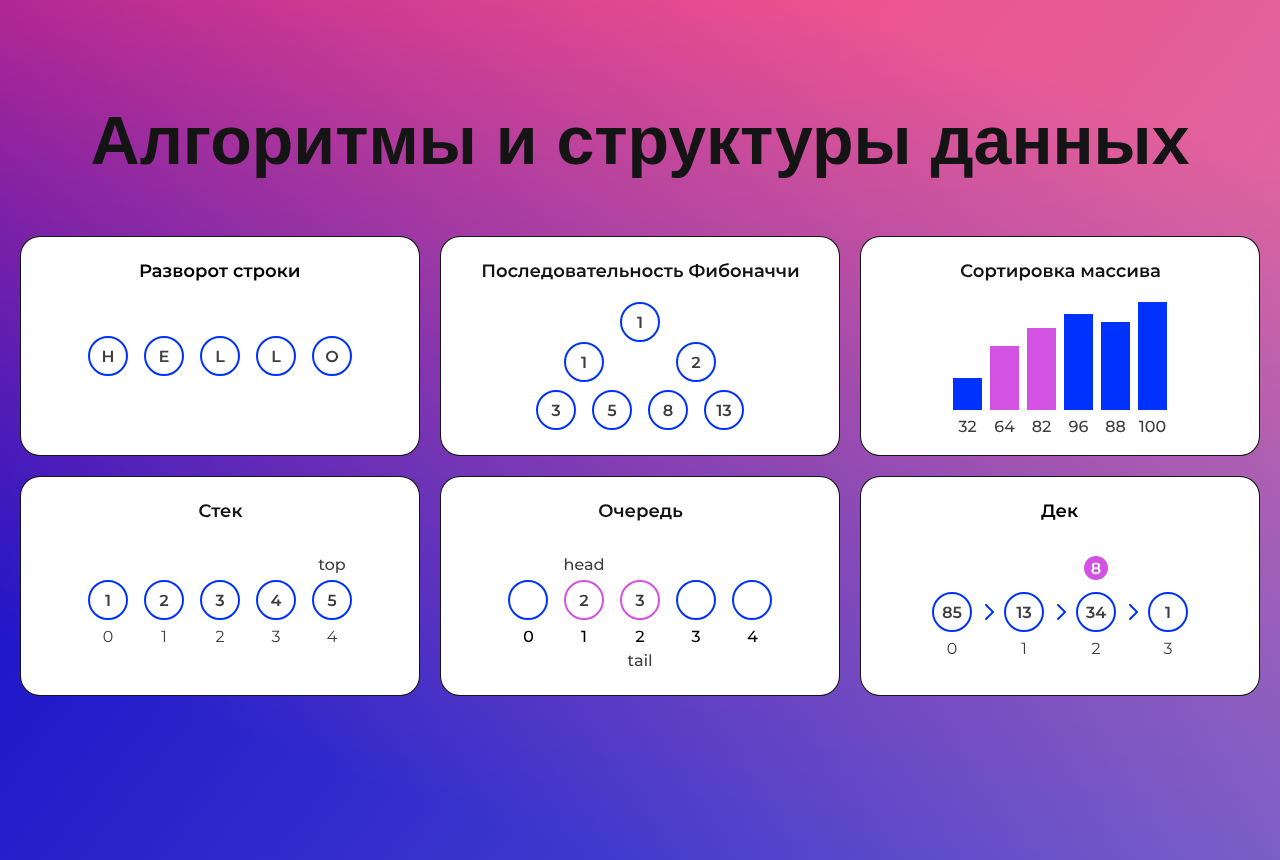
Test: app works correctly with routes › should open sorting visualizer and come back to main
Expected: the element with test id "navigation" is shown, [20,236,1260,696]
Click the 3rd link at (1060, 346), box [860,236,1260,456]
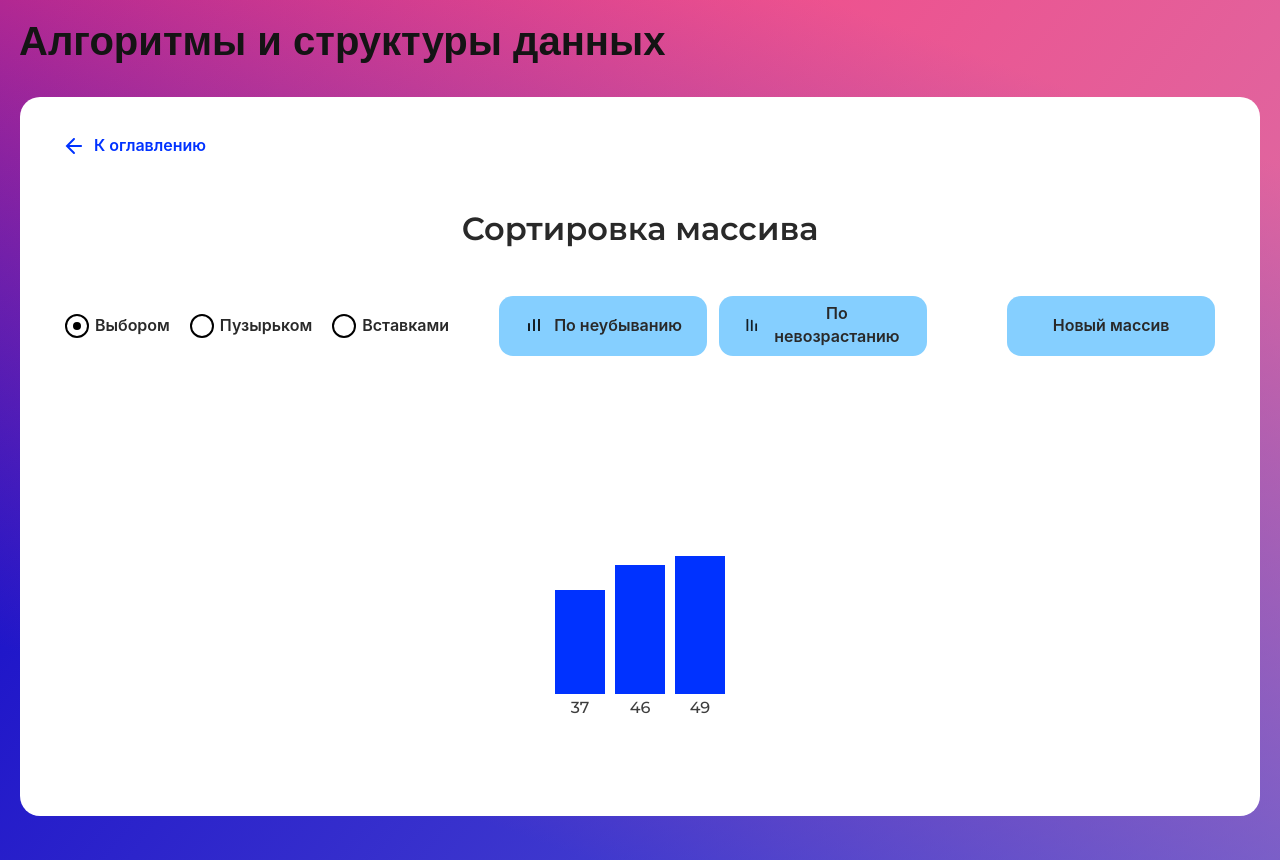
Result: the element with test id "navigation" is gone
Result: the heading "Сортировка массива" is shown at [462,208,818,248]
Click the button with test id "returnBtn" at (134, 146), box [56,133,212,159]
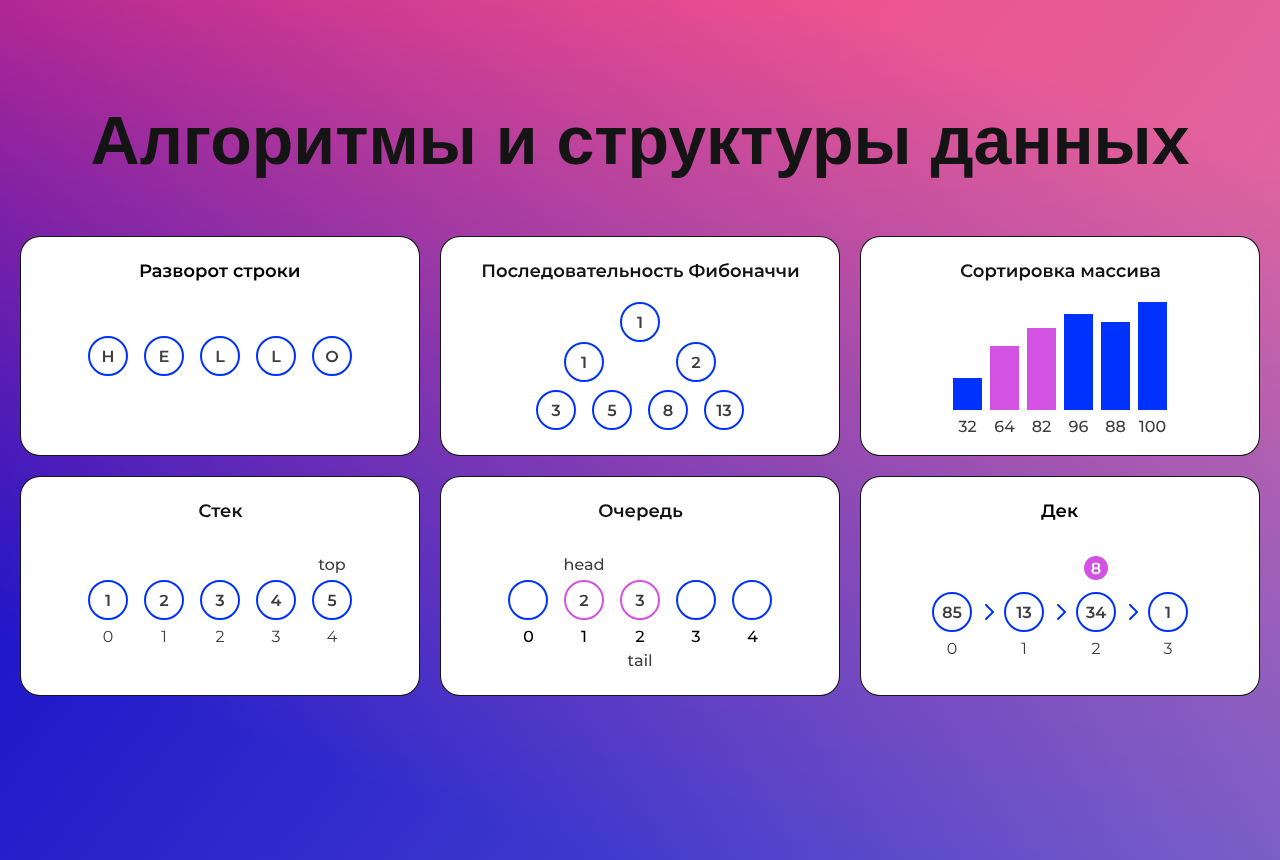
Result: the element with test id "navigation" is shown at [20,236,1260,696]
